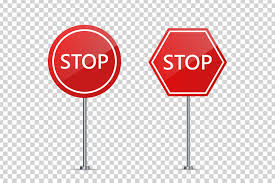stop sign: (150, 28, 224, 95), (51, 24, 118, 95)
